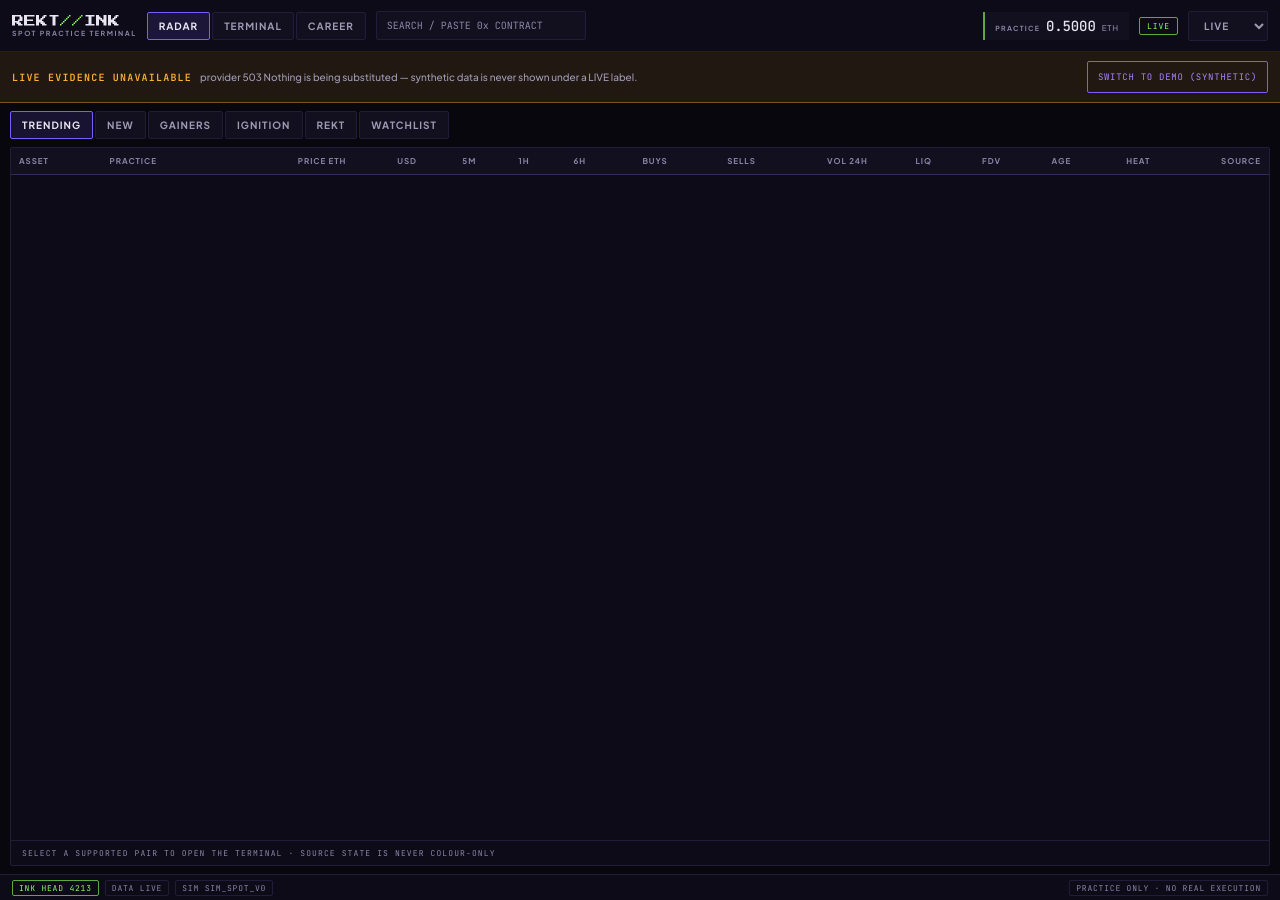
it: LIVE by default, fail closed › 4c. DEMO is reachable only by explicit choice, and announces itself
Check: the text "LIVE EVIDENCE UNAVAILABLE" is shown, box [12,70,192,84]
Click the button "SWITCH TO DEMO (SYNTHETIC)" at (1177, 77), box [1087,61,1268,93]
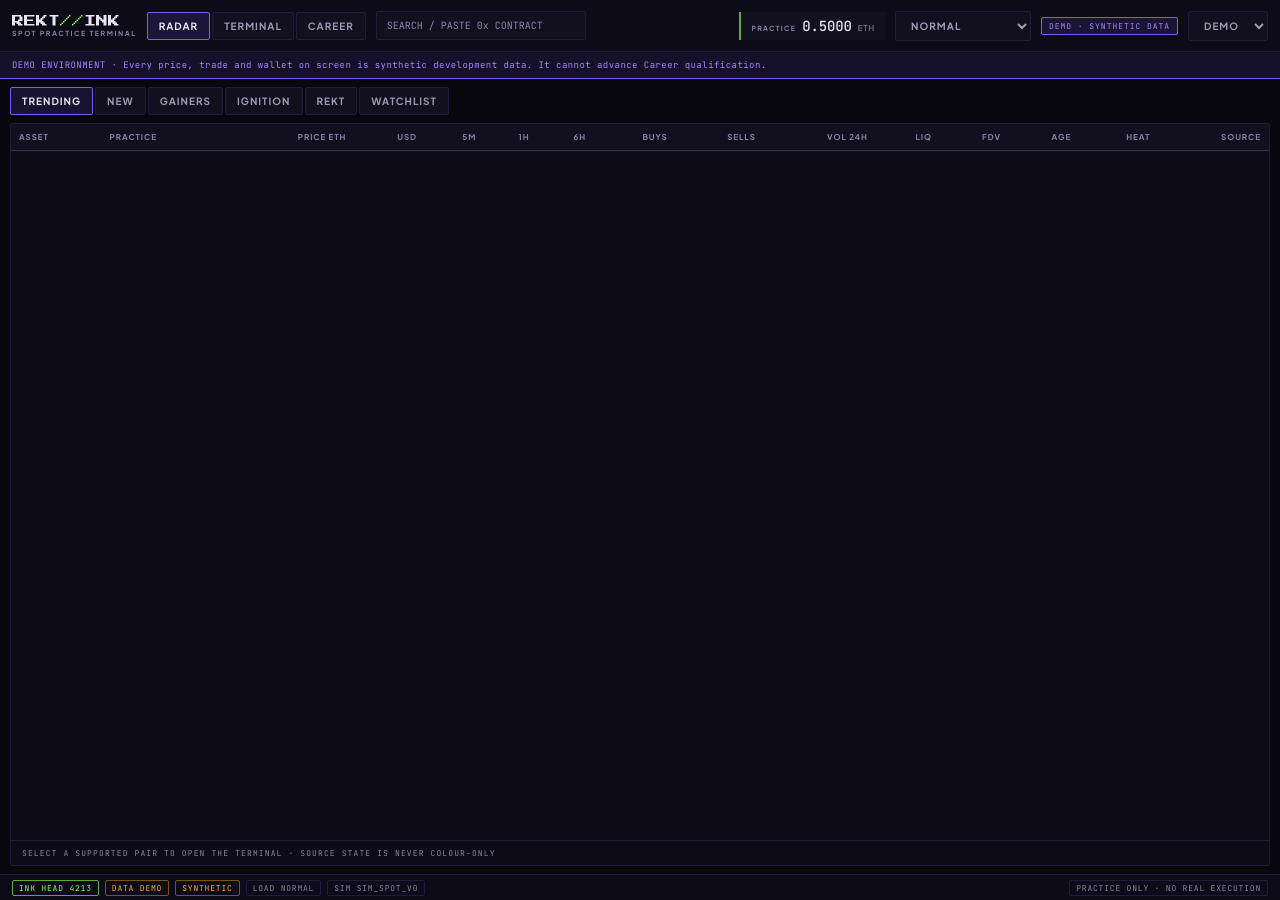
Check: the message "DEMO · SYNTHETIC DATA" is shown, box [1041,16,1178,34]
Check: the text "Every price, trade and wallet on screen is synthetic development data" is shown, box [12,59,767,71]
Check: the text "DEMO · SYNTHETIC DATA" is shown, box [1041,16,1178,34]
